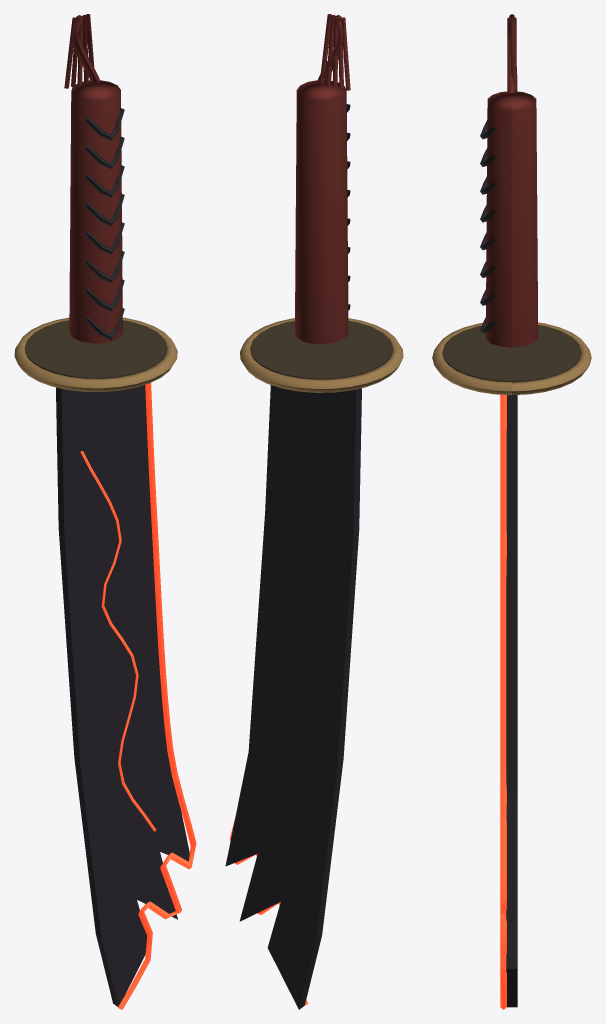
Rendered from hoja-del-ocaso.glb.
The picture shows the model from 3 angles, left to right: view 1: azimuth 30°, elevation 25°; view 2: azimuth 150°, elevation 25°; view 3: azimuth 270°, elevation 25°; orthographic projection. The views are drawn at different scales.
Visible parts, largest first — view 1: Acero_fracturado, Filo_rojo, Borla_espada; view 2: Acero_fracturado, Borla_espada; view 3: Acero_fracturado, Filo_rojo, Borla_espada.
Boxes of the visible parts, x1,y1,x2,y2 form: Acero_fracturado: (14, 80, 189, 1006); Filo_rojo: (80, 383, 196, 1009); Borla_espada: (64, 14, 99, 88); Acero_fracturado: (225, 80, 403, 1009); Borla_espada: (318, 14, 350, 90); Acero_fracturado: (432, 91, 591, 1007); Filo_rojo: (500, 394, 506, 1009); Borla_espada: (507, 14, 517, 92).
Size of the model in its own units: 0.2025 by 1.16 by 0.172.
Materials: 4 (2 with a texture image).
